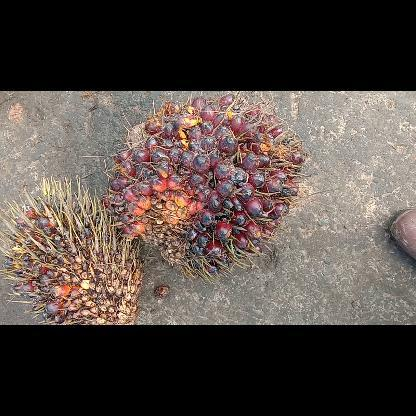Kurang masak: (100, 92, 308, 284)
TBS abnormal: (0, 174, 144, 324)
